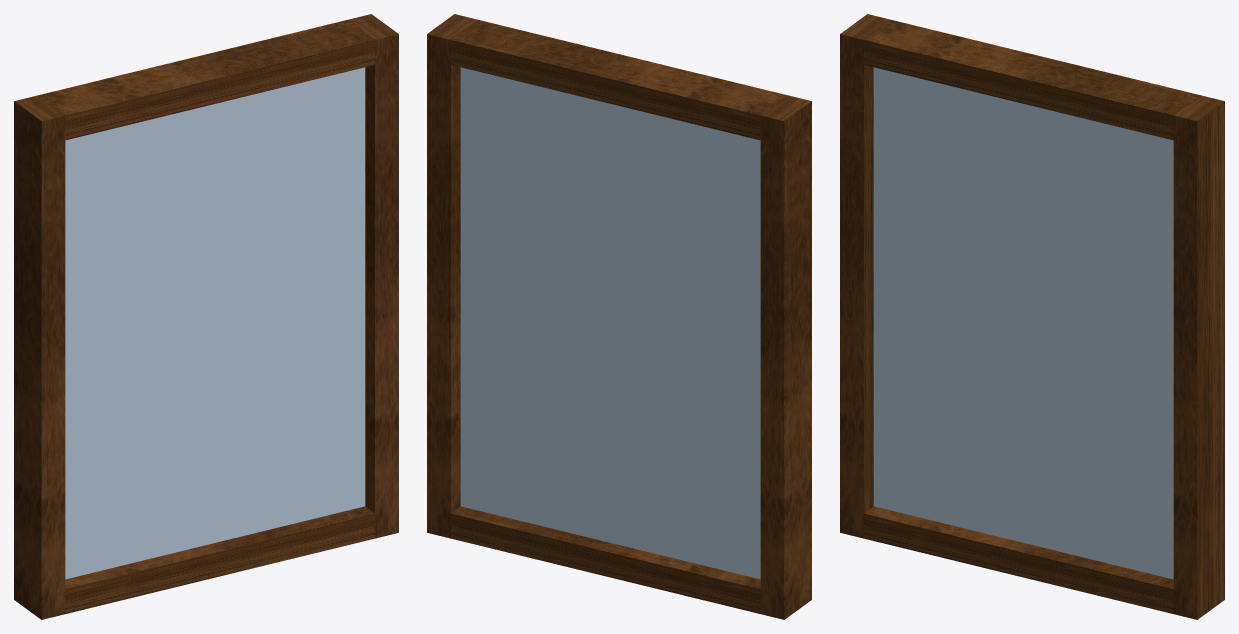
The picture shows the model from 3 angles, left to right: view 1: azimuth 30°, elevation 25°; view 2: azimuth 150°, elevation 25°; view 3: azimuth 330°, elevation 25°; orthographic projection.
Visible parts, largest first — view 1: window_glass, frame; view 2: window_glass, frame; view 3: window_glass, frame.
Boxes of the visible parts, box(x1,y1,x2,y2) form: window_glass: box(65, 67, 365, 579); frame: box(14, 14, 398, 619); window_glass: box(460, 67, 760, 579); frame: box(427, 14, 811, 619); window_glass: box(873, 67, 1173, 579); frame: box(840, 14, 1224, 619).
Size of the model in its own units: 0.9 by 1.2 by 0.12.
Materials: 2 (2 with a texture image).
